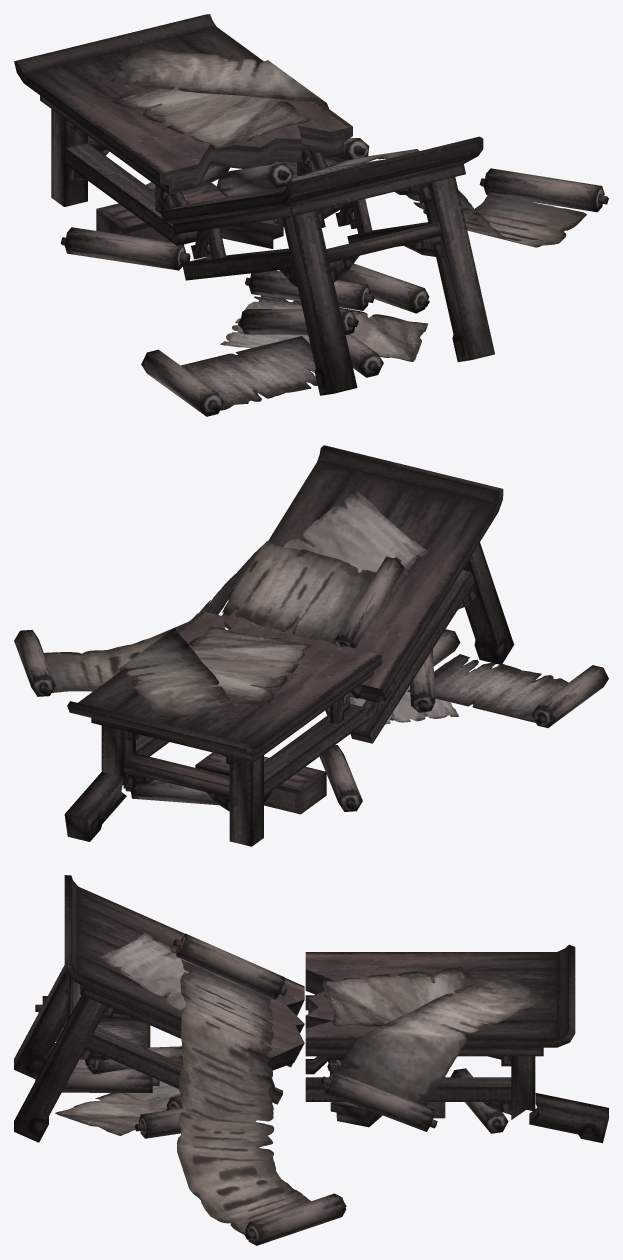
File: PRP_TableC.FBX
The picture shows the model from 3 angles, top to bottom: view 1: azimuth 30°, elevation 25°; view 2: azimuth 150°, elevation 25°; view 3: azimuth 270°, elevation 25°; orthographic projection. The views are drawn at different scales.
Visible parts, largest first — view 1: PRP_TableC; view 2: PRP_TableC; view 3: PRP_TableC.
Boxes of the visible parts, x1,y1,x2,y2 form: PRP_TableC: (14,14,608,416); PRP_TableC: (14,445,608,846); PRP_TableC: (14,875,608,1245).
Size of the model in its own units: 422 by 158 by 451.
